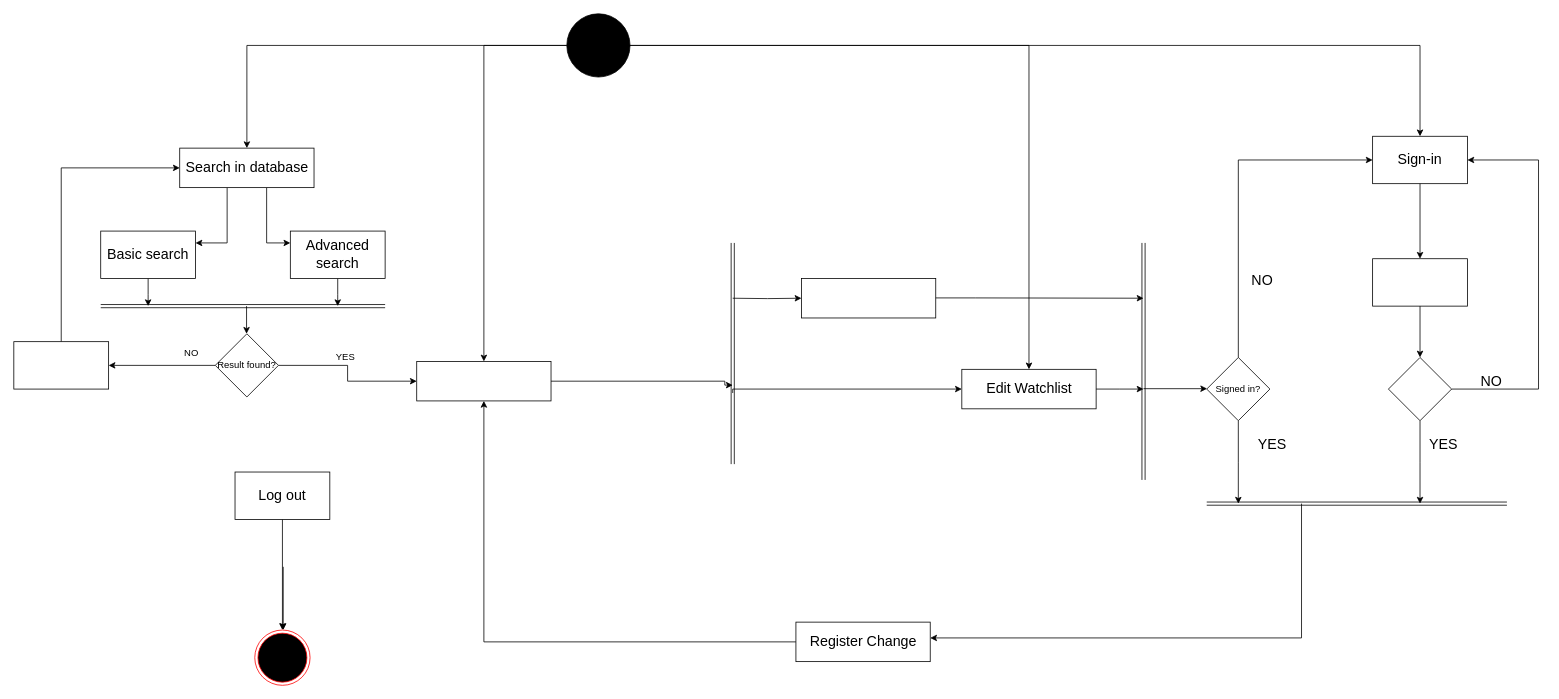
Some shapes in this 1559 by 699 pixel diagram are drawn without their labels. Here are the shapes that lost their labels. From the top down, the centre of each, then its label:
the point at 868,298: Rate Movie
the point at 1419,282: Log in Validation
the point at 61,365: Cancel / X
the point at 483,381: View Movie Details
the point at 1420,389: Valid?
